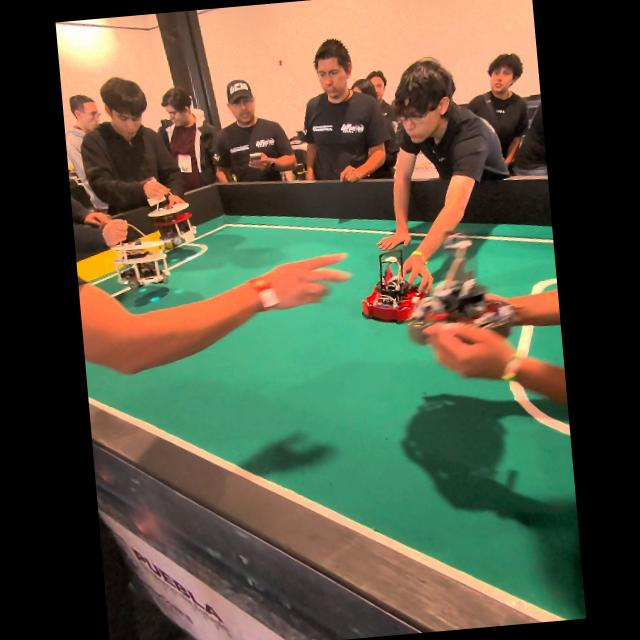robot: (404, 232, 514, 347), (358, 249, 426, 326), (104, 237, 172, 286), (144, 200, 198, 250)
